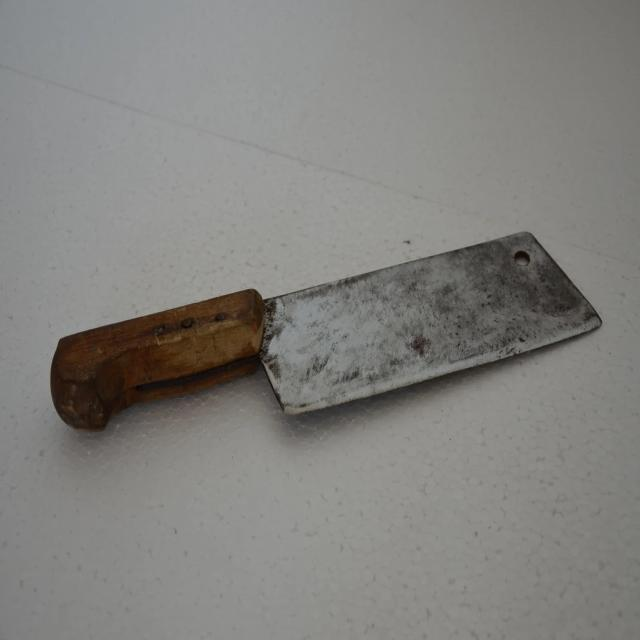cleaver: (45, 234, 604, 432)
